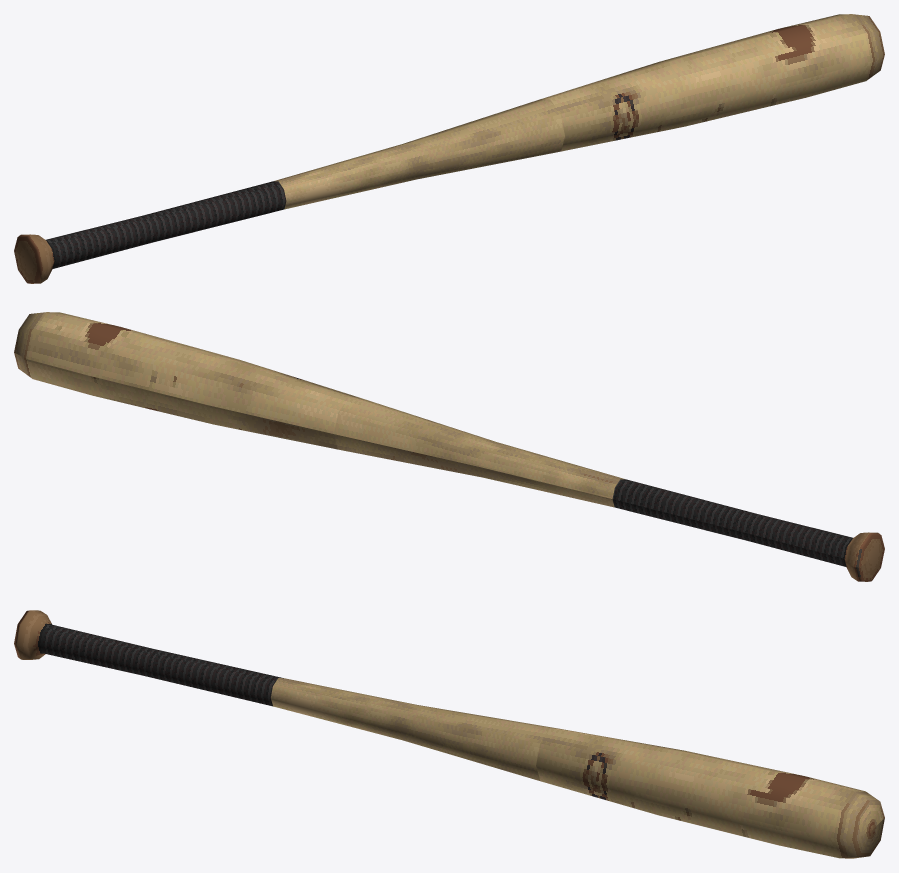
Rendered from baseball_bat.glb.
3 renders of one model, top to bottom at view 1: azimuth 30°, elevation 25°; view 2: azimuth 150°, elevation 25°; view 3: azimuth 330°, elevation 25°, orthographic.
Visible parts, largest first — view 1: baseball_bat; view 2: baseball_bat; view 3: baseball_bat.
Part boxes in pixels (x1=…): baseball_bat: x1=14, y1=14, x2=884, y2=283; baseball_bat: x1=14, y1=312, x2=884, y2=581; baseball_bat: x1=14, y1=610, x2=884, y2=858.
Bounding box in the file's own units: 0.8402 × 0.0661 × 0.066.
Materials: 1 (1 with a texture image).
